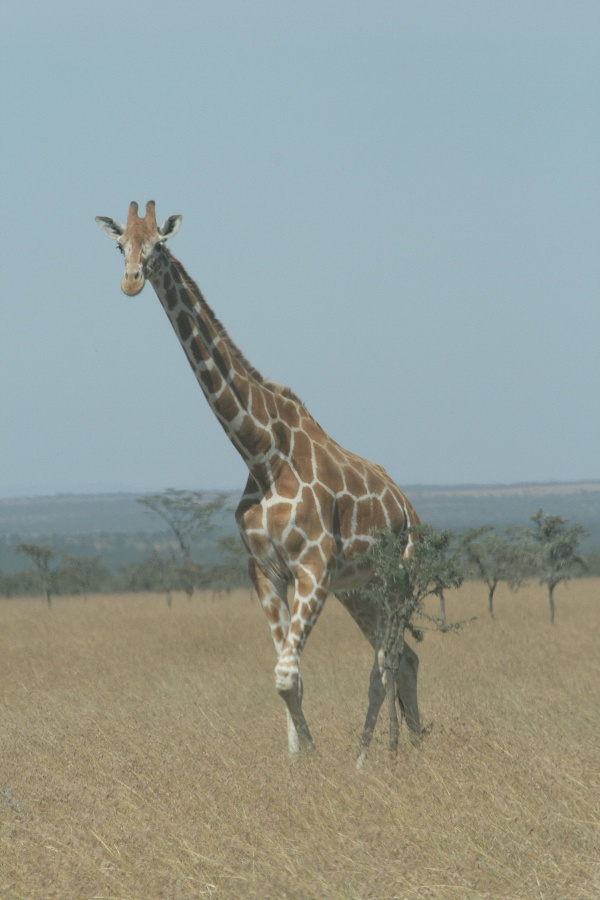giraffe: (88, 184, 457, 778)
